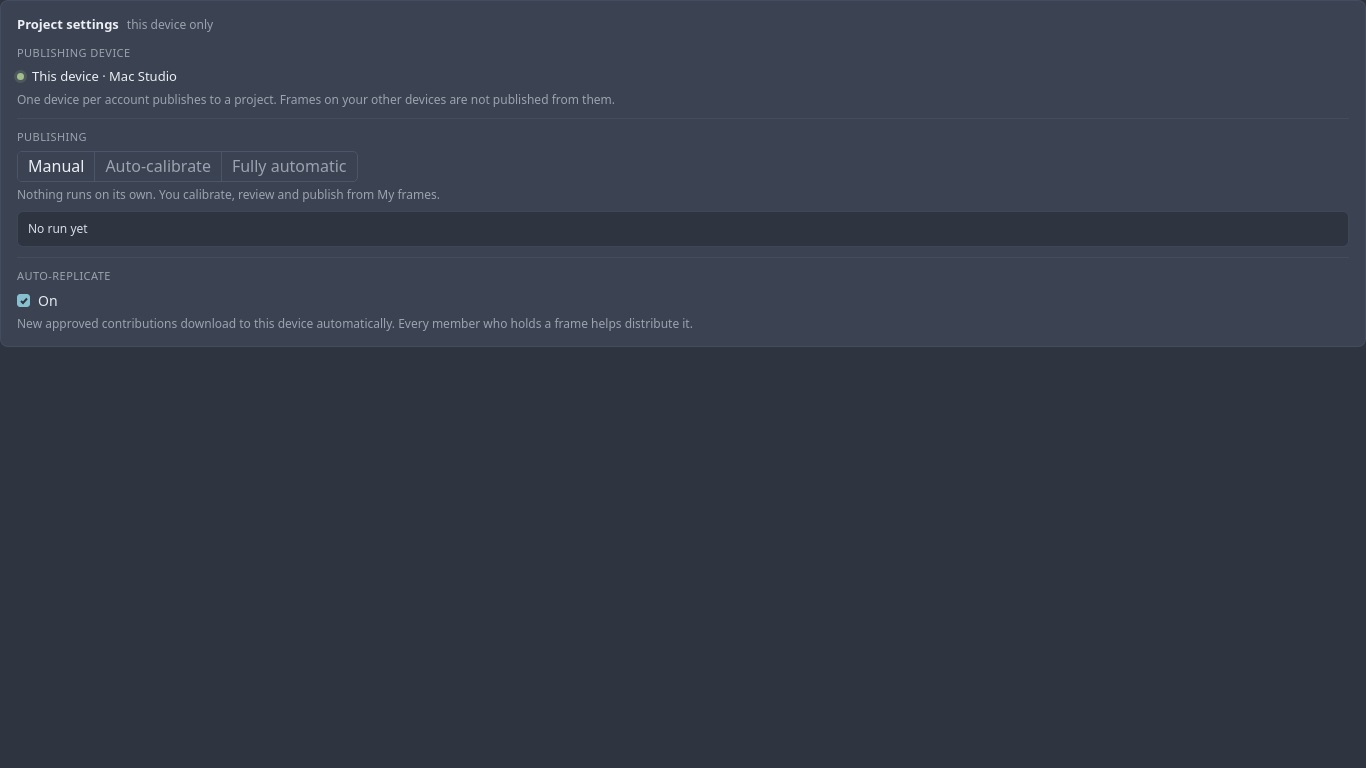
Test case: ProjectSettingsCard › a failed mode write logs, notifies and keeps the stored mode
Click the button "Fully automatic" at (289, 167), box [222,152,356,181]
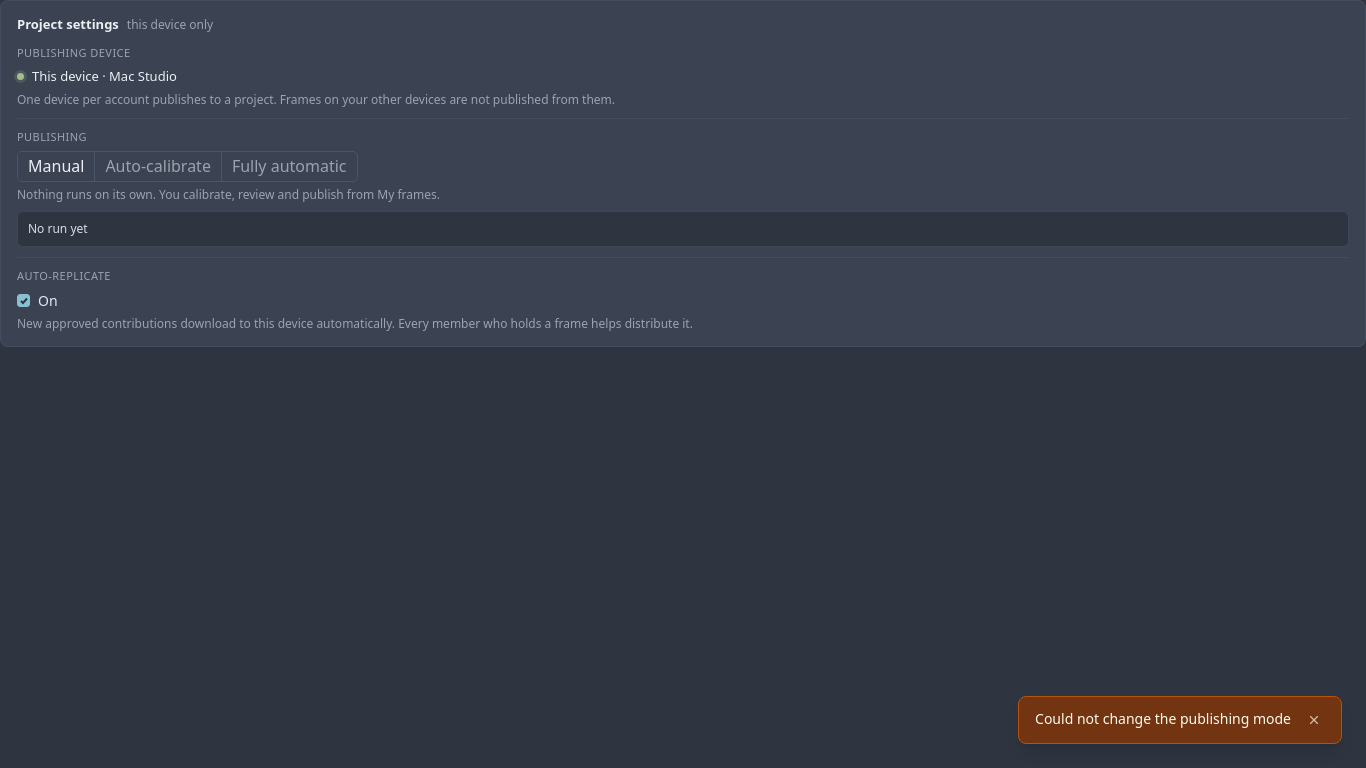
Expected: the button "Manual" is shown, [18,152,95,181]
Now the message reads "Could not change the publishing mode", box [1035,709,1291,728]
